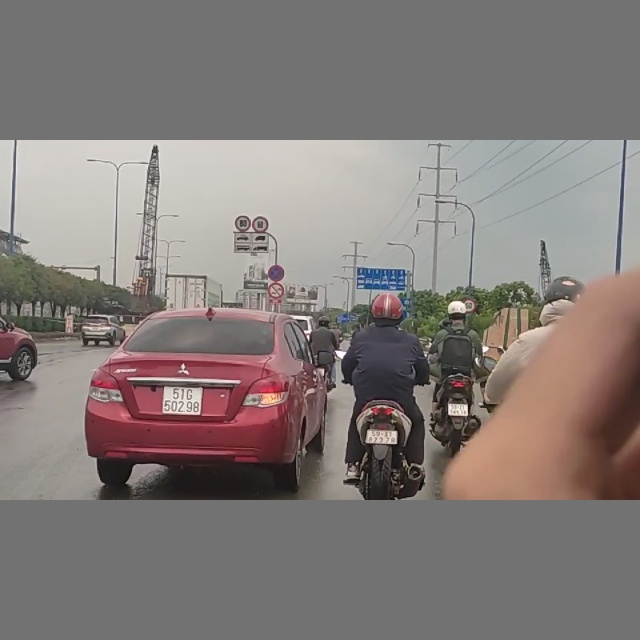P.130: (267, 265, 285, 281)
